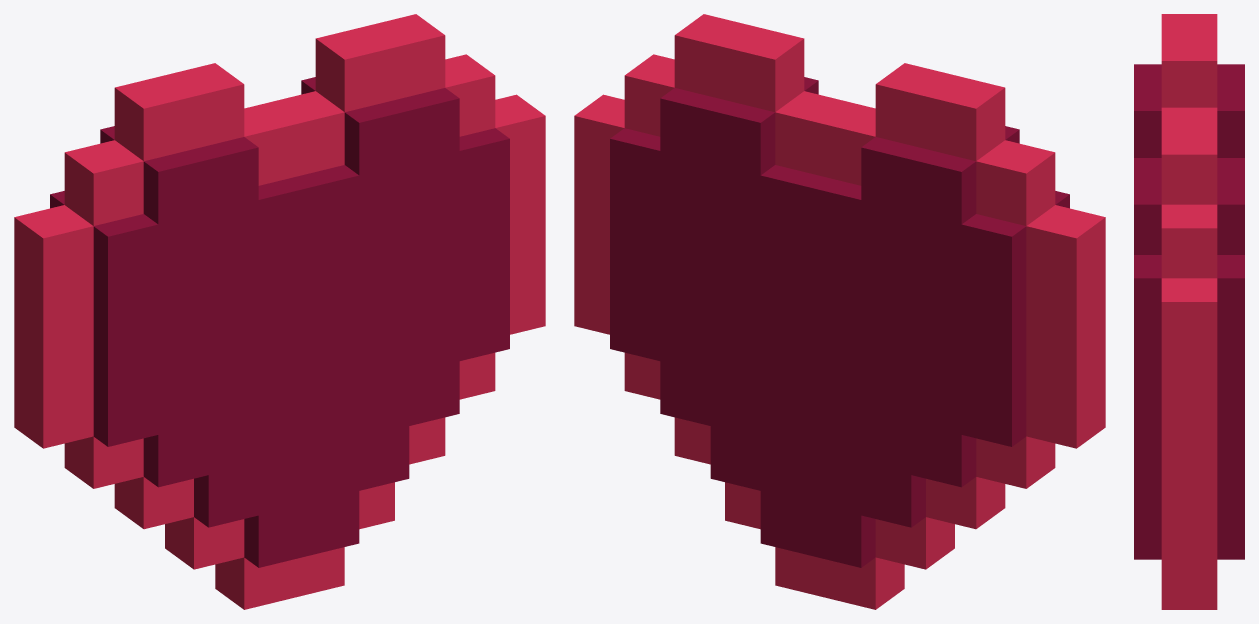
Rendered from Heart-Demo.glb.
The picture shows the model from 3 angles, left to right: view 1: azimuth 30°, elevation 25°; view 2: azimuth 150°, elevation 25°; view 3: azimuth 270°, elevation 25°; orthographic projection. The views are drawn at different scales.
Parts seen in each view (by area): view 1: generated(Clone); view 2: generated(Clone); view 3: generated(Clone).
Boxes of the visible parts, box(x1,y1,x2,y2) form: generated(Clone): box(14, 14, 545, 609); generated(Clone): box(574, 14, 1105, 609); generated(Clone): box(1134, 14, 1244, 609).
Size of the model in its own units: 50 by 50 by 10.
